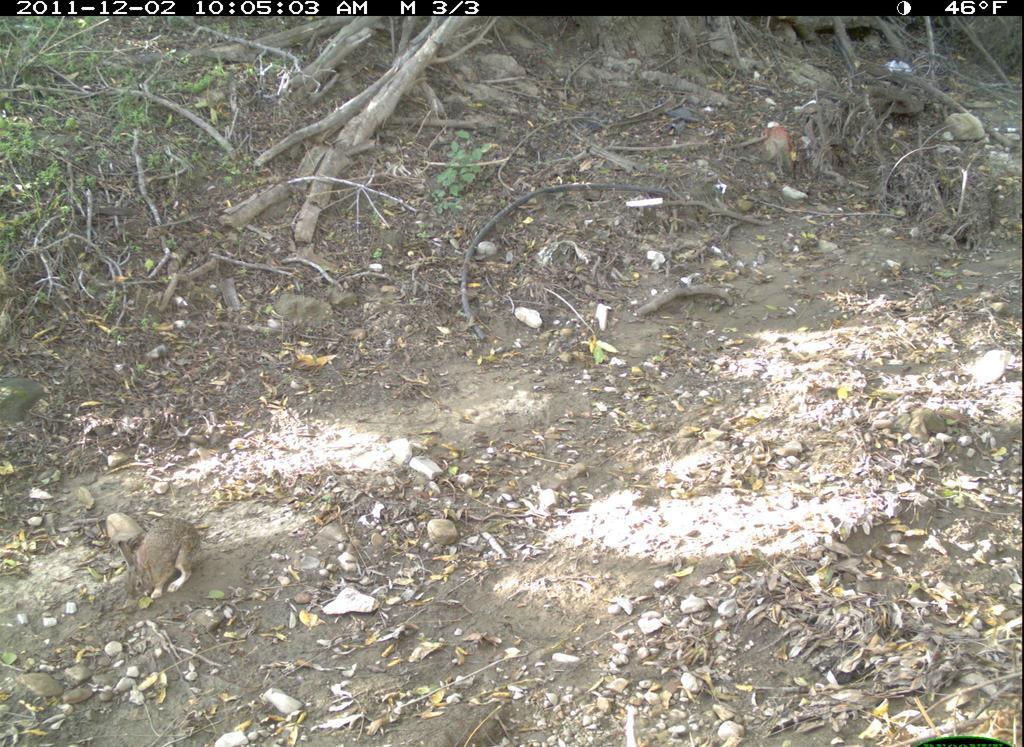rabbit: (116, 505, 219, 625)
